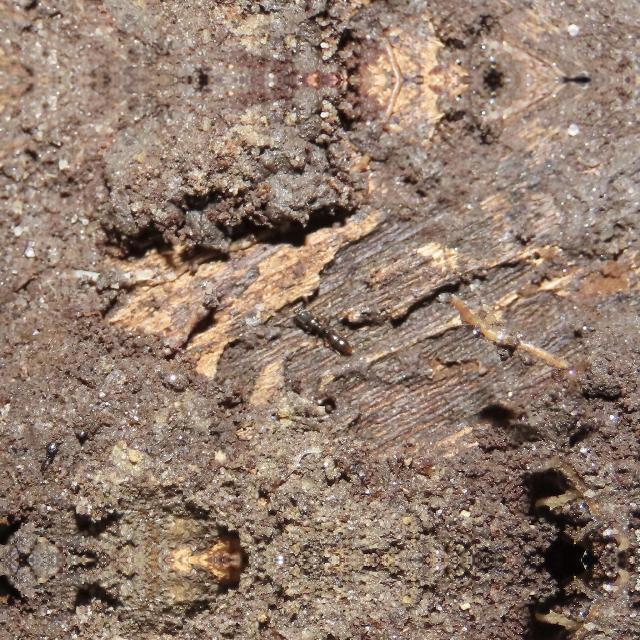Ponera: (271, 288, 363, 359)
